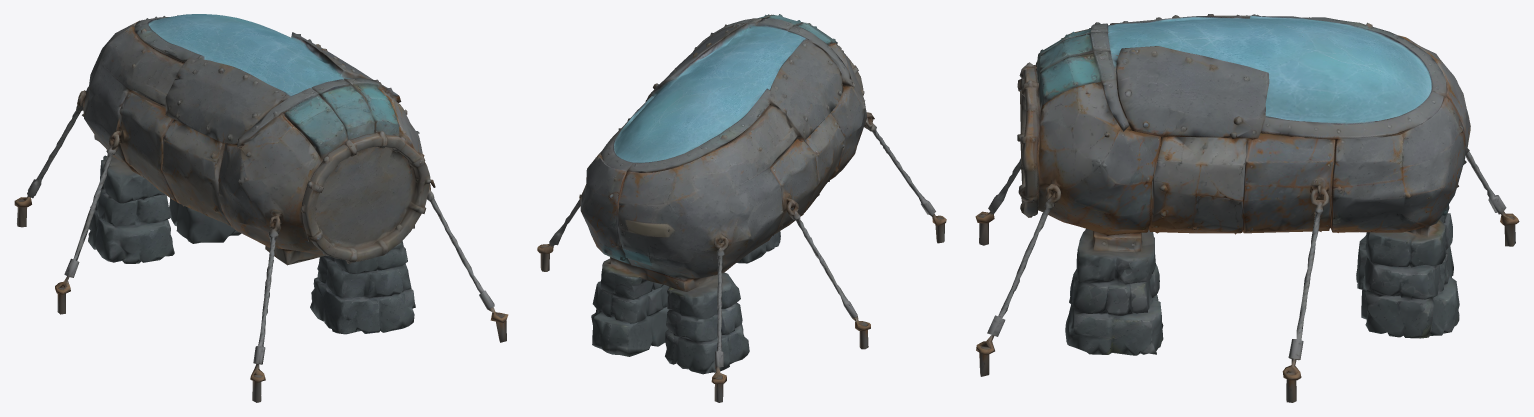
Rendered from pod-p3-flat.glb.
3 renders of one model, left to right at view 1: azimuth 30°, elevation 25°; view 2: azimuth 150°, elevation 25°; view 3: azimuth 270°, elevation 25°, orthographic. The views are drawn at different scales.
Parts seen in each view (by area): view 1: tripo_node_b6f771d1-7a5e-4be0-8a5e-ec0591d69c98; view 2: tripo_node_b6f771d1-7a5e-4be0-8a5e-ec0591d69c98; view 3: tripo_node_b6f771d1-7a5e-4be0-8a5e-ec0591d69c98.
Boxes of the visible parts, bbox=[...] form: tripo_node_b6f771d1-7a5e-4be0-8a5e-ec0591d69c98: bbox=[14, 14, 508, 402]; tripo_node_b6f771d1-7a5e-4be0-8a5e-ec0591d69c98: bbox=[537, 14, 946, 402]; tripo_node_b6f771d1-7a5e-4be0-8a5e-ec0591d69c98: bbox=[975, 14, 1519, 402].
Size of the model in its own units: 1.79 by 1.2 by 2.11.
1 material, 1 textured.
